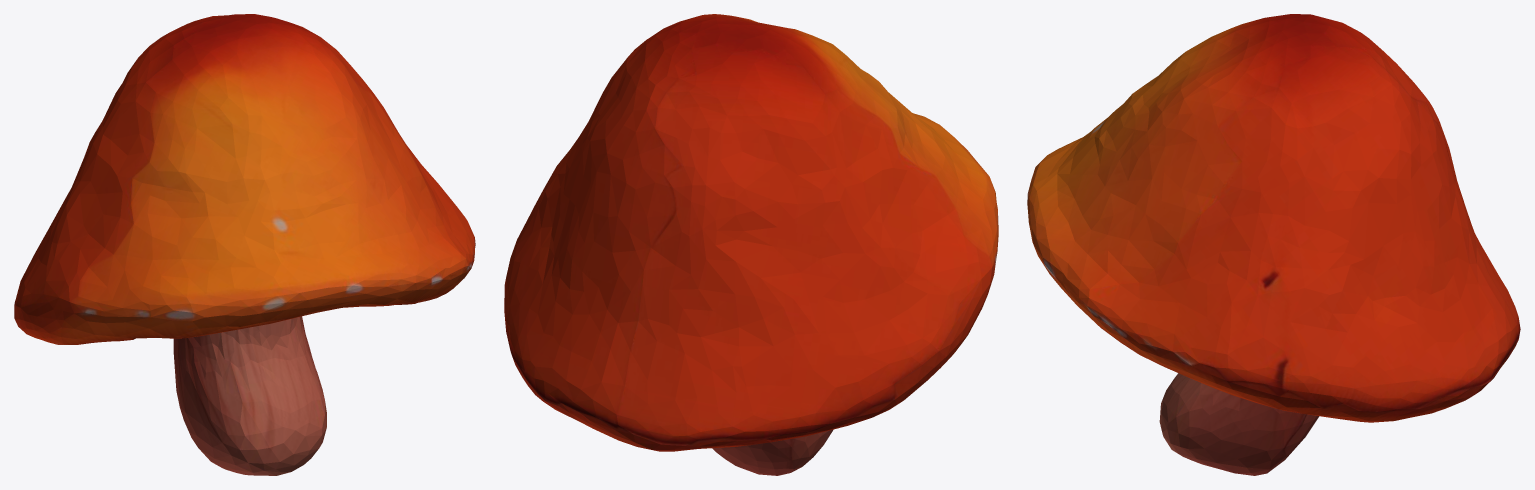
File: shelf_fungus.glb
3 renders of one model, left to right at view 1: azimuth 30°, elevation 25°; view 2: azimuth 150°, elevation 25°; view 3: azimuth 270°, elevation 25°, orthographic. The views are drawn at different scales.
Parts seen in each view (by area): view 1: tmpmlx72h6h.ply; view 2: tmpmlx72h6h.ply; view 3: tmpmlx72h6h.ply.
Part boxes in pixels (bbox=[...]): tmpmlx72h6h.ply: bbox=[14, 14, 475, 475]; tmpmlx72h6h.ply: bbox=[504, 14, 998, 475]; tmpmlx72h6h.ply: bbox=[1027, 14, 1520, 475].
Bounding box in the file's own units: 1.99 × 1.98 × 1.99.
Materials: 1 (1 with a texture image).
